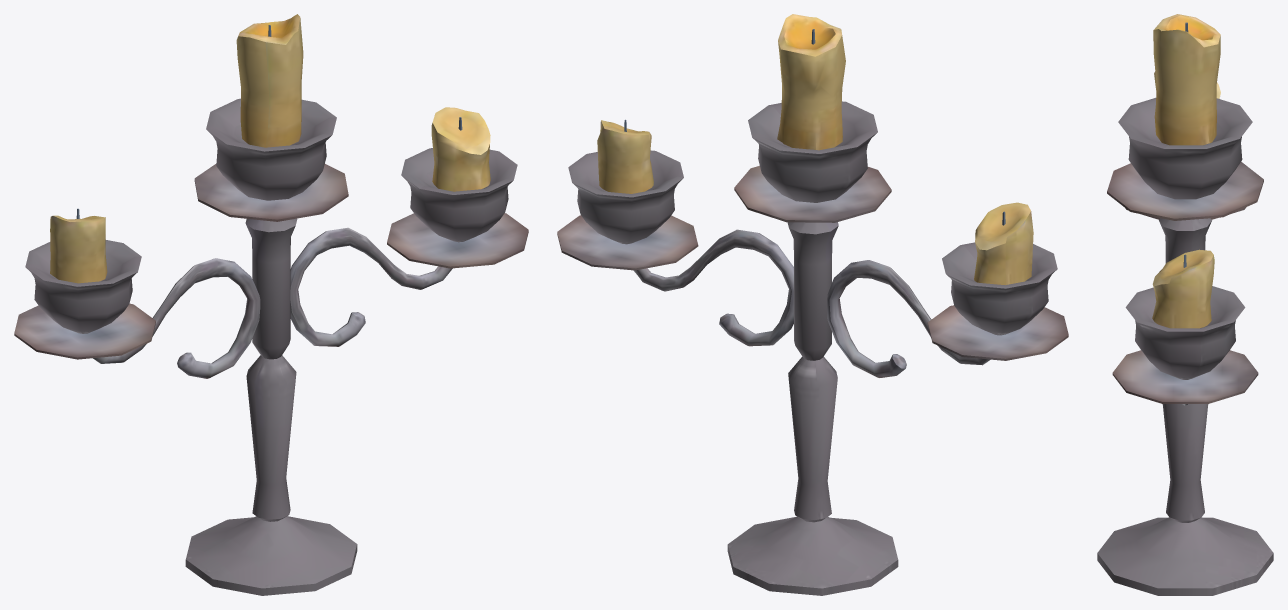
The model's file is candlestick-triple.glb.
3 views of the same model, side by side, from view 1: azimuth 30°, elevation 25°; view 2: azimuth 150°, elevation 25°; view 3: azimuth 270°, elevation 25° (orthographic).
Visible parts, largest first — view 1: CandleStick_Triple; view 2: CandleStick_Triple; view 3: CandleStick_Triple.
Boxes of the visible parts, x1,y1,x2,y2 form: CandleStick_Triple: (14,14,528,595); CandleStick_Triple: (557,14,1068,595); CandleStick_Triple: (1097,14,1273,595).
Size of the model in its own units: 0.4423 by 0.4633 by 0.1364.
2 materials, 2 textured.
